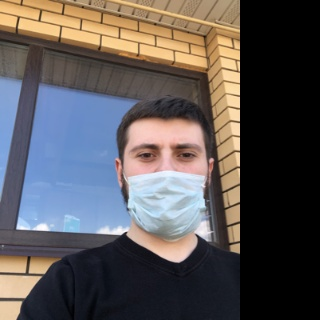with_mask: (124, 133, 207, 243)
